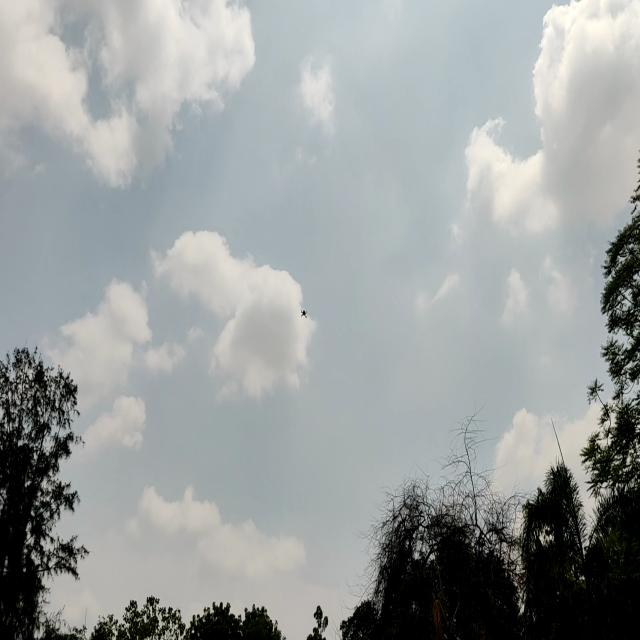drone: (297, 302, 310, 320)
